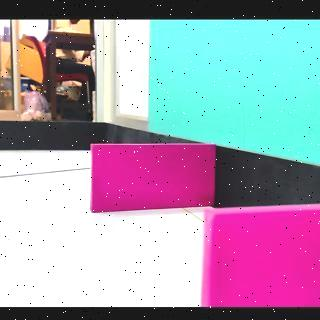xparking: (208, 213, 312, 304), (94, 147, 200, 211)
